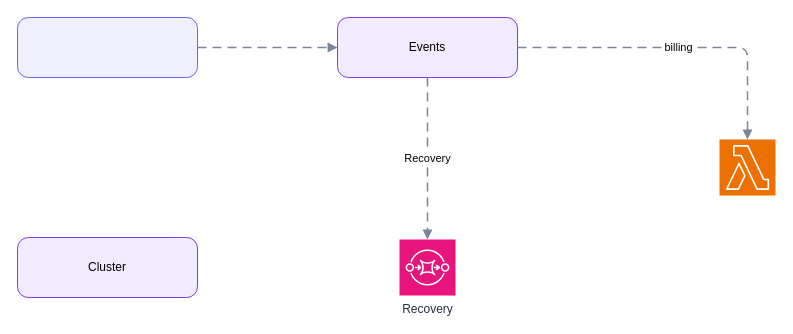
This 793x334 diagram has some shape labels left out. Here are the shapes that lost their labels. From the top down, the centre of each, then its label:
At (x=107, y=47): "Publisher".
At (x=747, y=167): "Readers".
